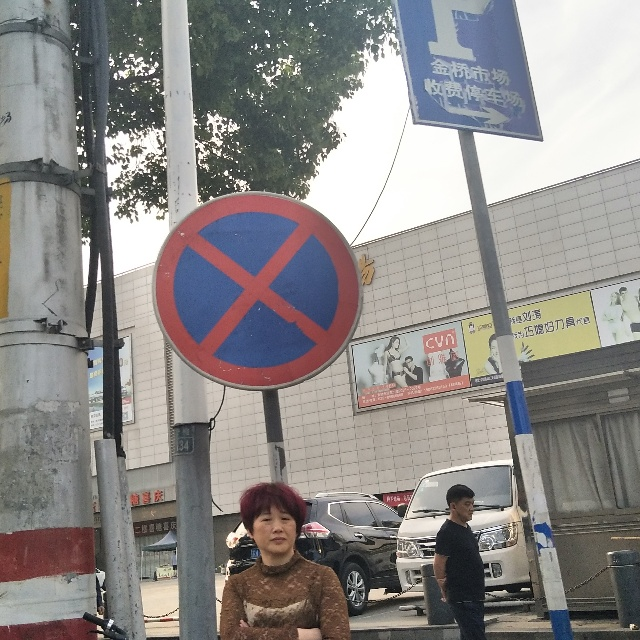stop: (170, 213, 342, 372)
